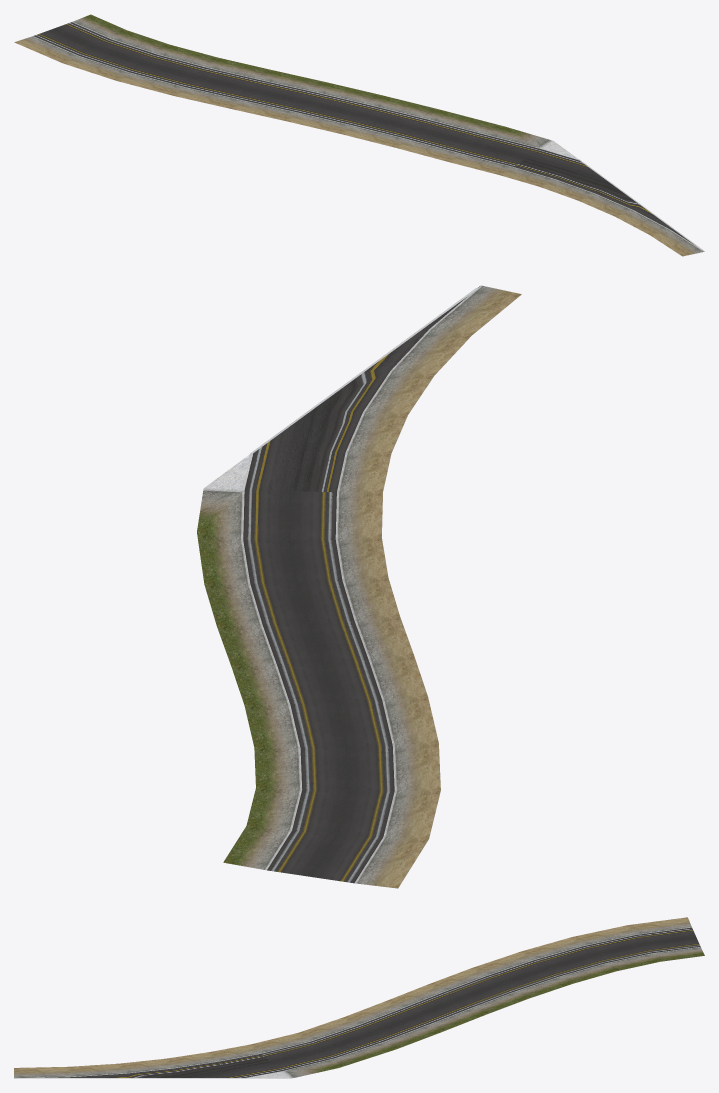
The model's file is vegassedge05.obj.
The picture shows the model from 3 angles, top to bottom: view 1: azimuth 30°, elevation 25°; view 2: azimuth 150°, elevation 25°; view 3: azimuth 270°, elevation 25°; orthographic projection. The views are drawn at different scales.
Visible parts, largest first — view 1: vegasSedge05; view 2: vegasSedge05; view 3: vegasSedge05.
Boxes of the visible parts, <box> form: vegasSedge05: <box>14,14,704,256</box>; vegasSedge05: <box>197,285,521,888</box>; vegasSedge05: <box>14,917,704,1078</box>.
Bounding box in the file's own units: 73.95 × 4.17 × 150.
5 materials, 5 textured.
